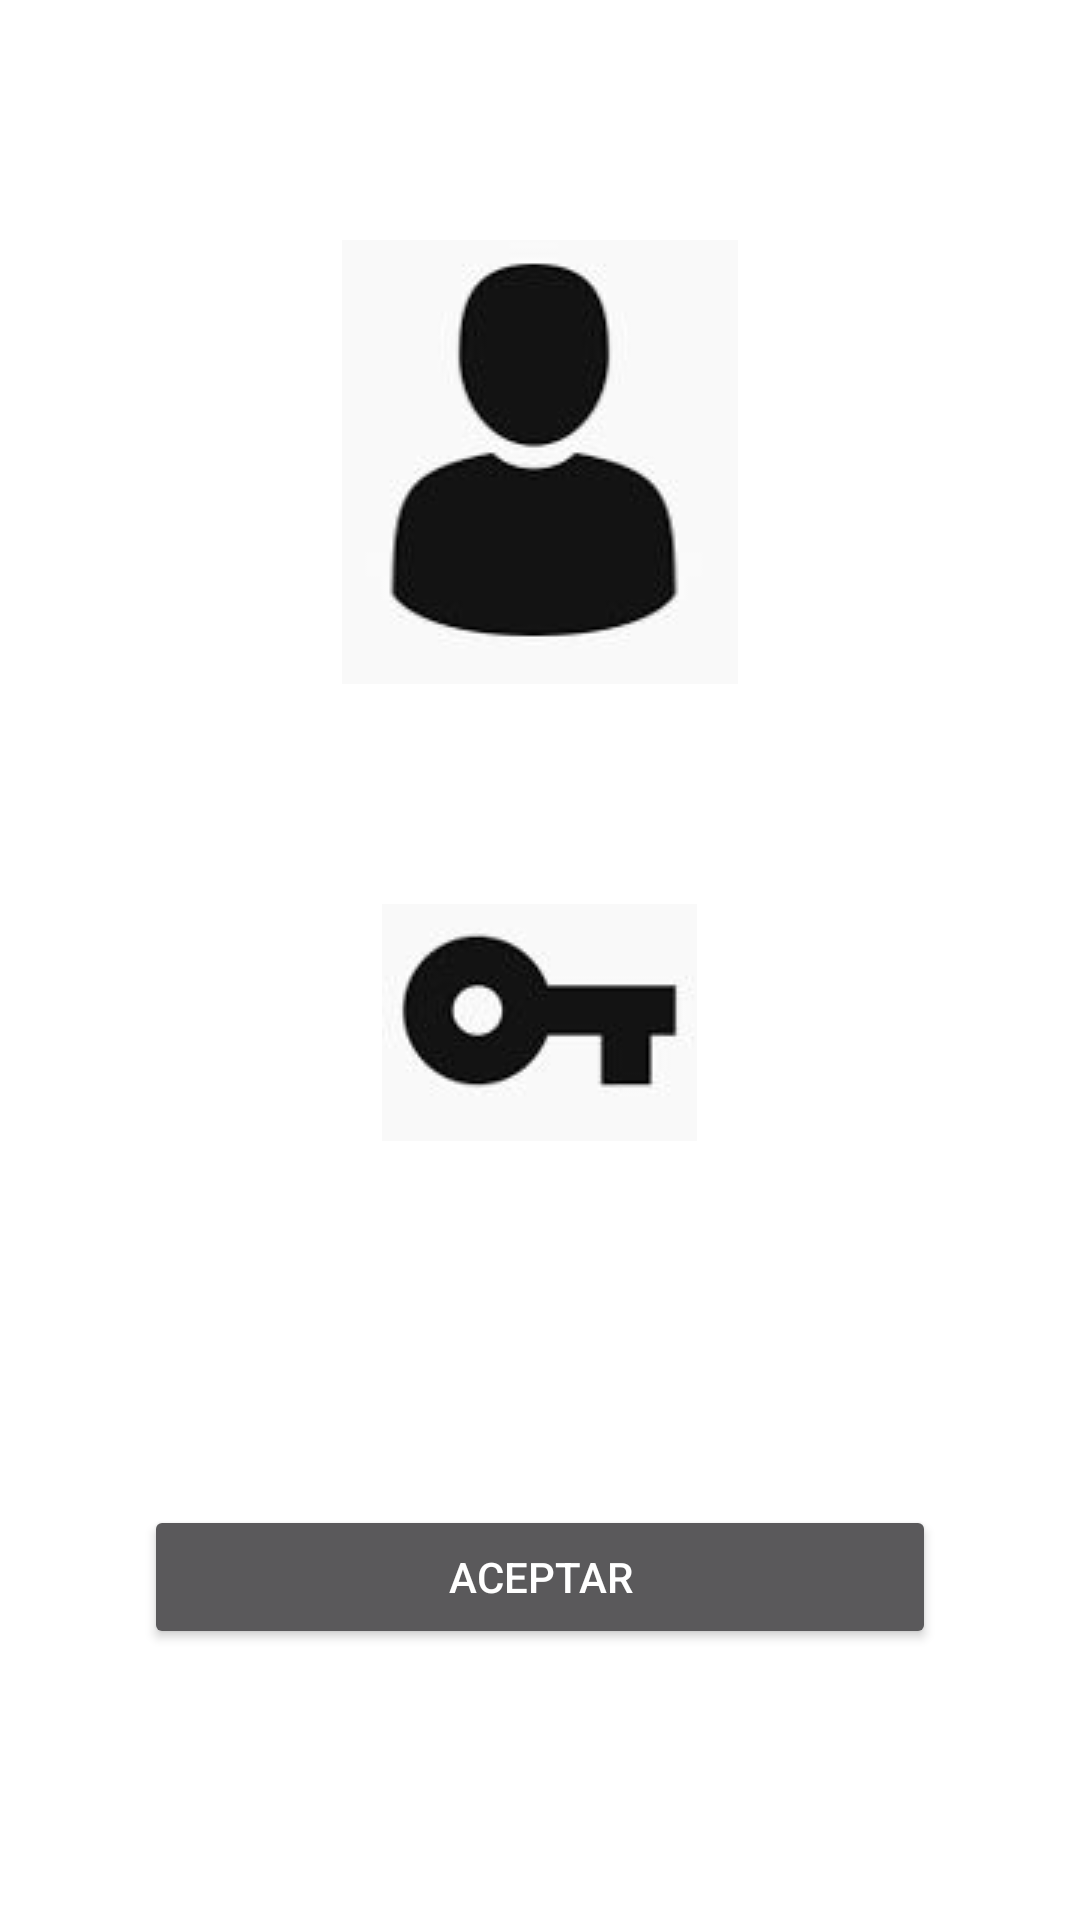

Named icons in this screenshot (1080w x 1920h) and their centers, point (x, y):
key: point (539, 1010)
